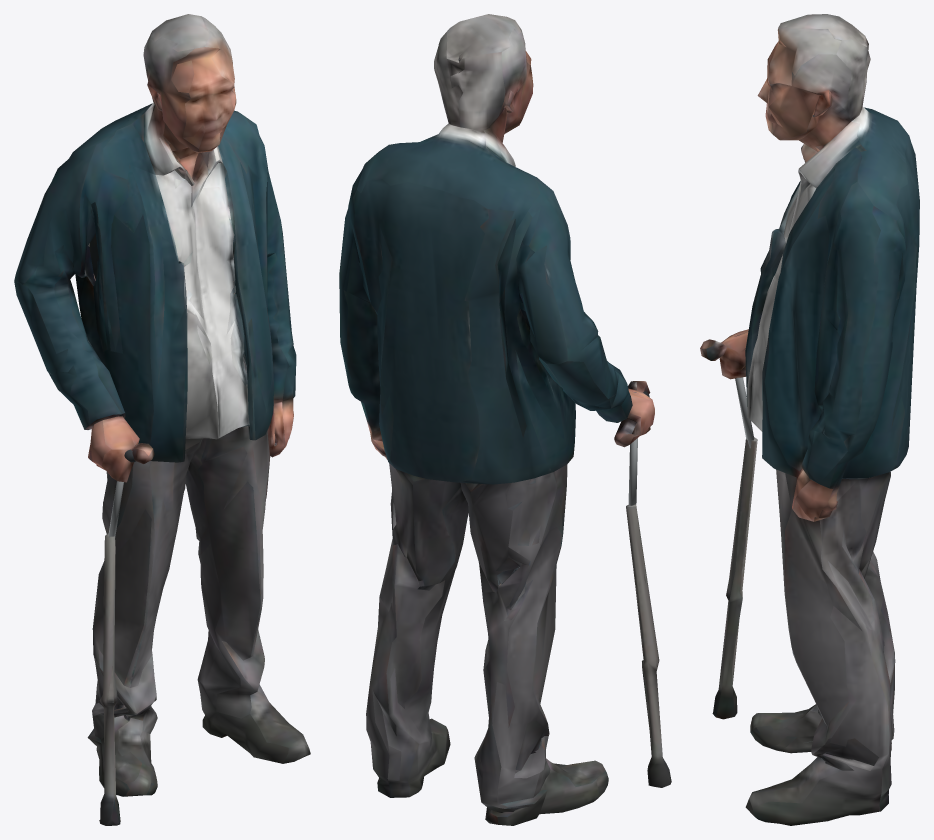
Rendered from person_01.glb.
The picture shows the model from 3 angles, left to right: view 1: azimuth 30°, elevation 25°; view 2: azimuth 150°, elevation 25°; view 3: azimuth 270°, elevation 25°; orthographic projection. The views are drawn at different scales.
Visible parts, largest first — view 1: Human_Rig; view 2: Human_Rig; view 3: Human_Rig, continuous_cane_upper_shaft.
Boxes of the visible parts, x1,y1,x2,y2 form: Human_Rig: (14,14,310,825); Human_Rig: (339,14,671,825); Human_Rig: (700,14,919,825); continuous_cane_upper_shaft: (735,377,754,448).
Size of the model in its own units: 0.5918 by 1.65 by 0.4319.
Materials: 3 (1 with a texture image).
